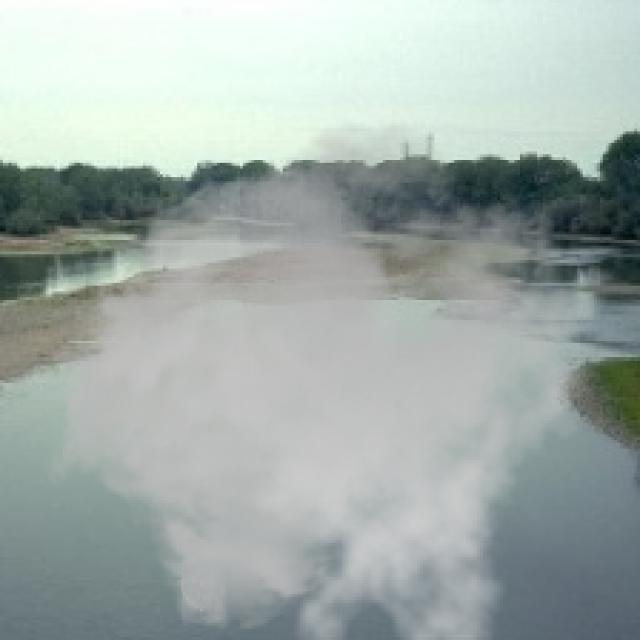Smoke: (40, 120, 603, 637)
